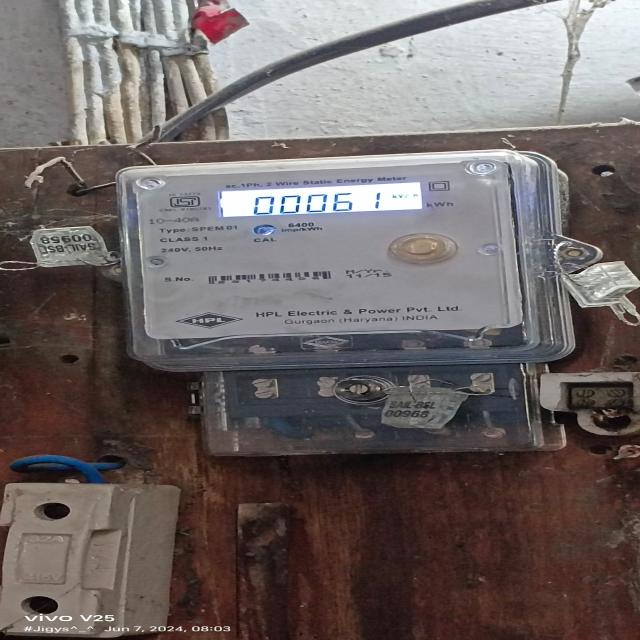display: (217, 183, 422, 218)
